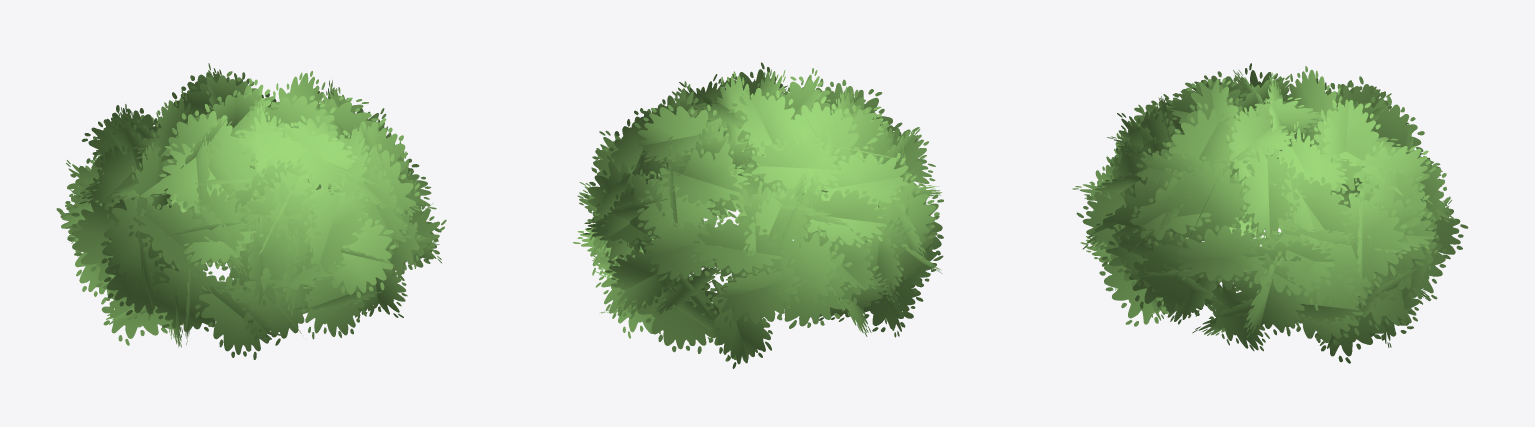
File: Bush_01.fbx
The picture shows the model from 3 angles, left to right: view 1: azimuth 30°, elevation 25°; view 2: azimuth 150°, elevation 25°; view 3: azimuth 270°, elevation 25°; orthographic projection.
Parts seen in each view (by area): view 1: Bush; view 2: Bush; view 3: Bush.
Boxes of the visible parts, <box> form: Bush: <box>56,63,446,359</box>; Bush: <box>572,62,943,368</box>; Bush: <box>1072,63,1468,363</box>.
Bounding box in the file's own units: 2.6 × 1.98 × 2.79.
1 material, 1 textured.
